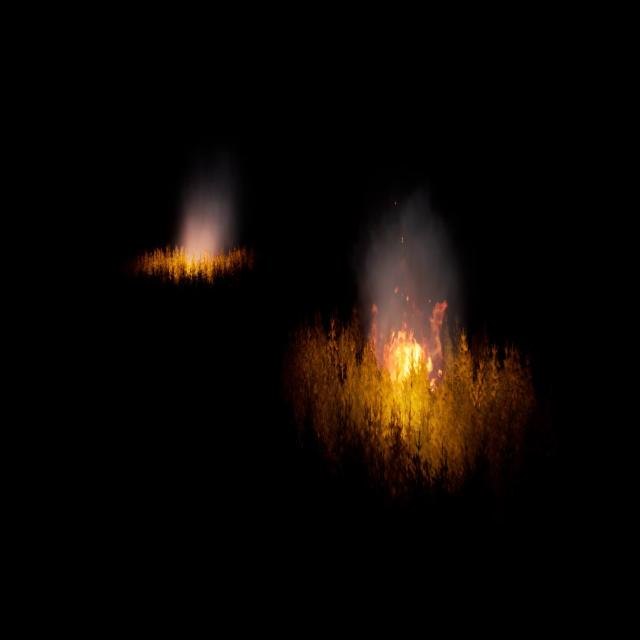fire: (370, 278, 446, 388)
smoke: (362, 197, 469, 391), (178, 182, 234, 268)
